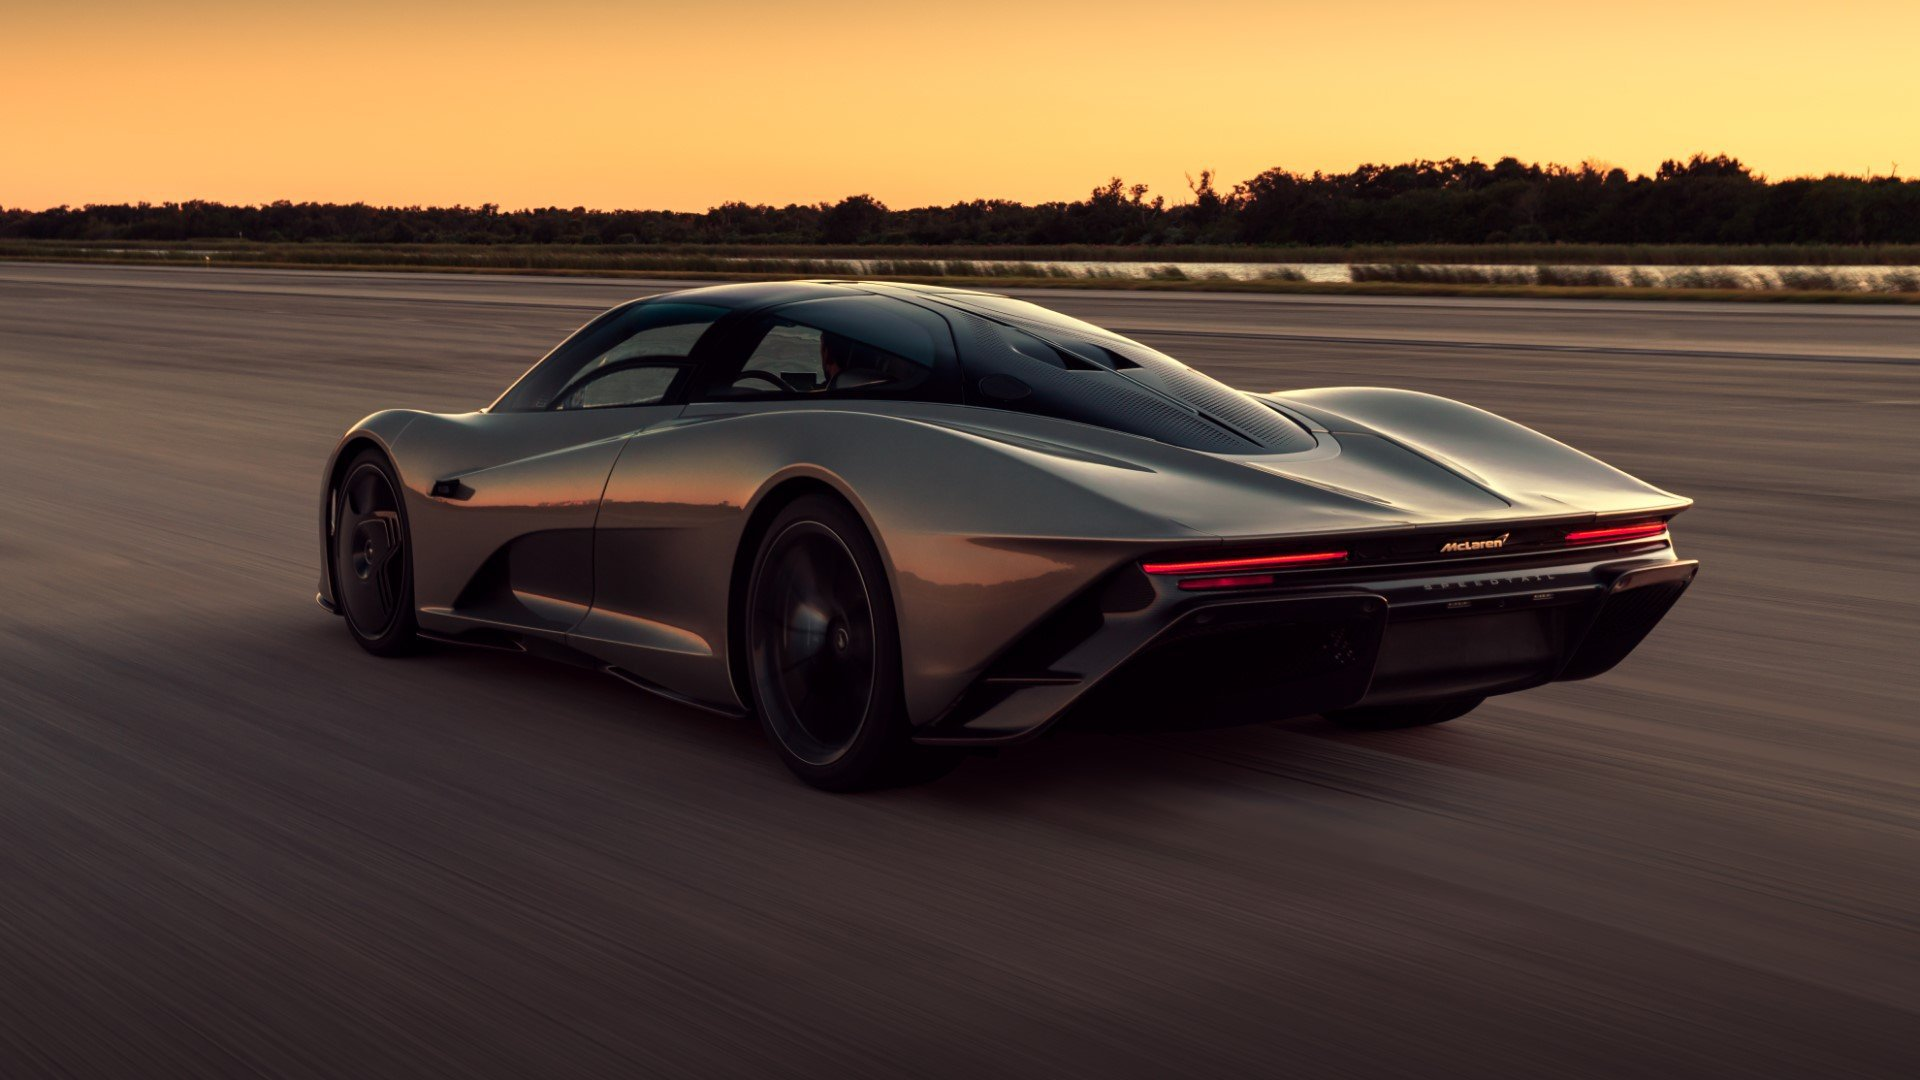car: (306, 278, 1698, 785)
